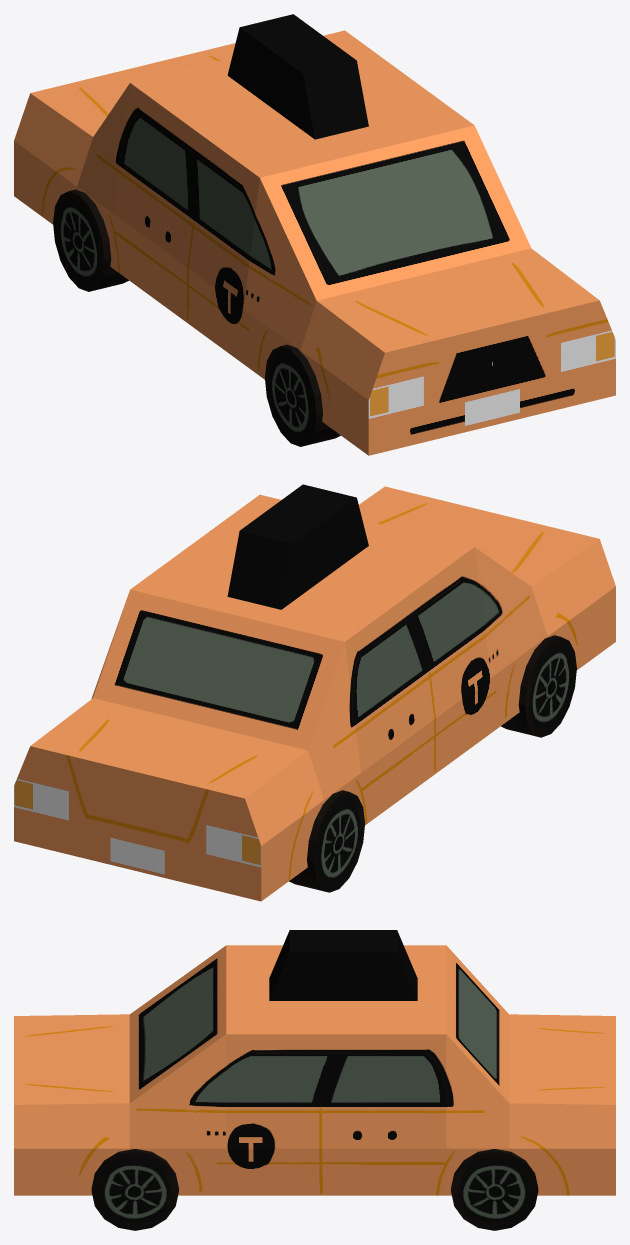
Rendered from car_sedan taxi_v1.fbx.
3 views of the same model, one above another, from view 1: azimuth 30°, elevation 25°; view 2: azimuth 150°, elevation 25°; view 3: azimuth 270°, elevation 25° (orthographic). The views are drawn at different scales.
Visible parts, largest first — view 1: Body, Taxi Sign, Wheels; view 2: Body, Taxi Sign, Wheels; view 3: Body, Wheels, Taxi Sign.
Part boxes in pixels (x1,y1,x2,y2): Body: (14,30,615,455); Taxi Sign: (227,14,368,139); Wheels: (53,189,340,446); Body: (14,486,615,901); Taxi Sign: (227,484,368,609); Wheels: (289,635,576,892); Body: (14,945,615,1195); Wheels: (91,1149,538,1230); Taxi Sign: (269,930,417,1000).
Size of the model in its own units: 222 by 226 by 523.
2 materials, 1 textured.
